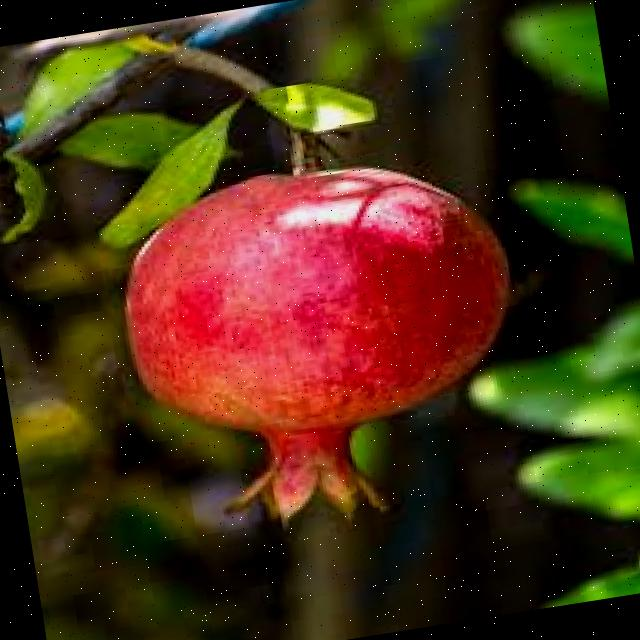Ripe: (99, 131, 548, 549)
